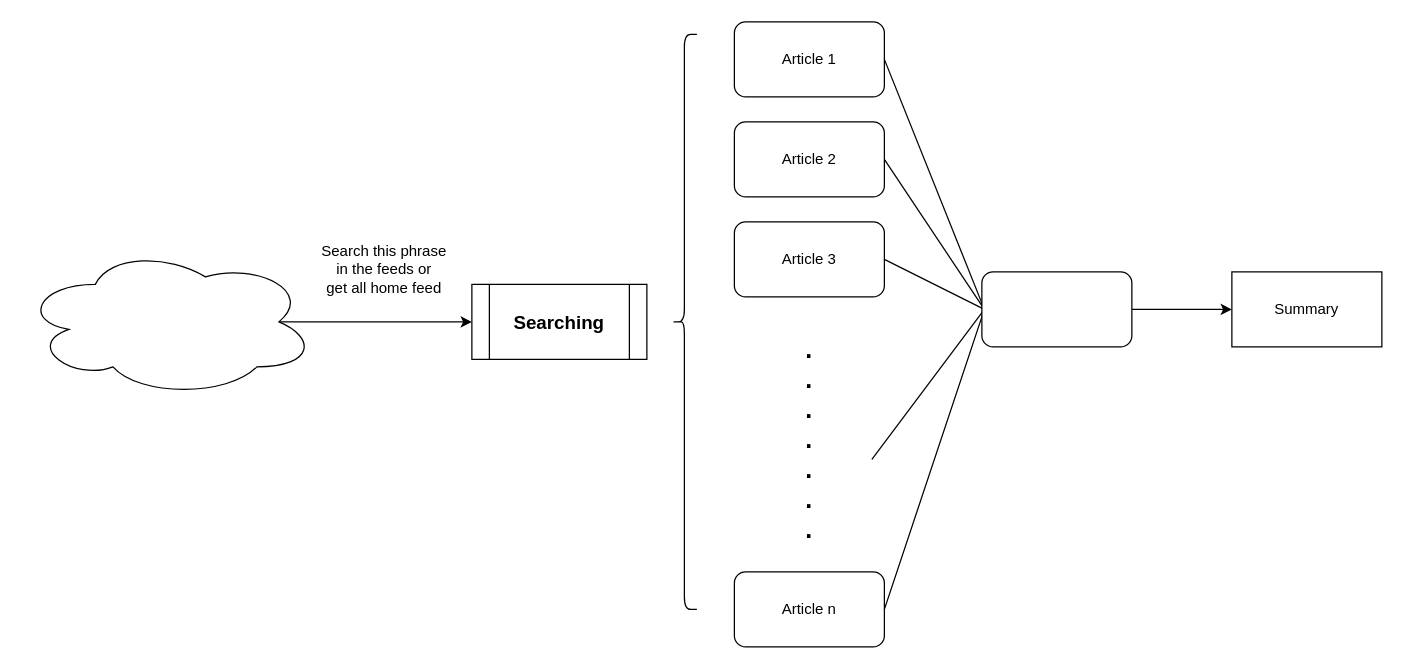
The diagram is 1404 pixels wide and 669 high, and some of its shapes have lost their labels. Here are the shapes that lost their labels. From the top down, the centre of each, then its label:
point 168,321: Search for "Nuclear Energy"
point 1056,309: T5/Openai Summarizer
